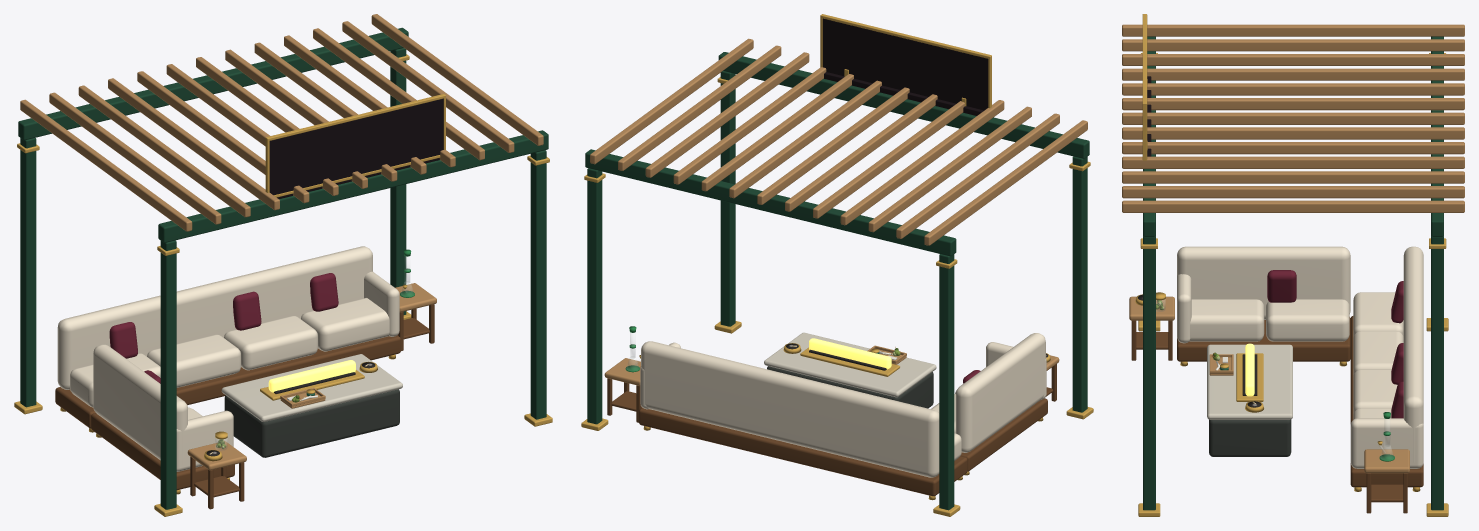
Rendered from rooftop_speakeasy.glb.
3 renders of one model, left to right at view 1: azimuth 30°, elevation 25°; view 2: azimuth 150°, elevation 25°; view 3: azimuth 270°, elevation 25°, orthographic. The views are drawn at different scales.
Parts seen in each view (by area): view 1: SofaLongBack, SignFace, FireBody, BeamFront, SofaSideBack, Post-1-1, Post-11, Post11, BeamBack, SofaLongBase, FireRim, SofaLongSeat2 (+29 smaller); view 2: SofaLongBack, SignBacking, SofaSideBack, SofaLongBase, BeamBack, Post-11, Post-1-1, Post1-1, FireRim, BeamFront, Post11, Slat10 (+19 smaller); view 3: SofaSideBack, FireRim, Slat11, Slat12, Slat10, Slat9, Slat0, Slat1, Slat3, Slat6, Slat4, Slat5 (+27 smaller).
Boxes of the visible parts, left/top/right/bottom form: SofaLongBack: left=57, top=246, right=372, bottom=389; SignFace: left=272, top=100, right=441, bottom=194; FireBody: left=224, top=389, right=399, bottom=457; BeamFront: left=158, top=130, right=548, bottom=242; SofaSideBack: left=93, top=344, right=187, bottom=464; Post-1-1: left=20, top=138, right=36, bottom=407; Post-11: left=160, top=240, right=176, bottom=509; Post11: left=530, top=150, right=546, bottom=419; BeamBack: left=18, top=27, right=408, bottom=140; SofaLongBase: left=55, top=335, right=400, bottom=428; FireRim: left=221, top=354, right=402, bottom=421; SofaLongSeat2: left=224, top=316, right=317, bottom=370; SofaLongBack: left=641, top=341, right=939, bottom=477; SignBacking: left=822, top=18, right=988, bottom=110; SofaSideBack: left=955, top=333, right=1045, bottom=452; SofaLongBase: left=639, top=408, right=967, bottom=496; BeamBack: left=585, top=149, right=956, bottom=256; Post-11: left=1072, top=156, right=1087, bottom=412; Post-1-1: left=939, top=254, right=954, bottom=510; Post1-1: left=587, top=168, right=602, bottom=424; FireRim: left=764, top=332, right=936, bottom=397; BeamFront: left=718, top=52, right=1089, bottom=158; Post11: left=720, top=71, right=735, bottom=326; Slat10: left=645, top=52, right=809, bottom=177; SofaSideBack: left=1177, top=246, right=1350, bottom=319; FireRim: left=1207, top=344, right=1292, bottom=419; Slat11: left=1122, top=186, right=1464, bottom=198; Slat12: left=1122, top=200, right=1464, bottom=212; Slat10: left=1122, top=171, right=1464, bottom=183; Slat9: left=1122, top=156, right=1464, bottom=168; Slat0: left=1122, top=24, right=1464, bottom=36; Slat1: left=1122, top=39, right=1464, bottom=51; Slat3: left=1122, top=68, right=1464, bottom=80; Slat6: left=1122, top=112, right=1464, bottom=124; Slat4: left=1122, top=83, right=1464, bottom=95; Slat5: left=1122, top=98, right=1464, bottom=110.
Bounding box in the file's own units: 2.98 × 2.58 × 2.22.
